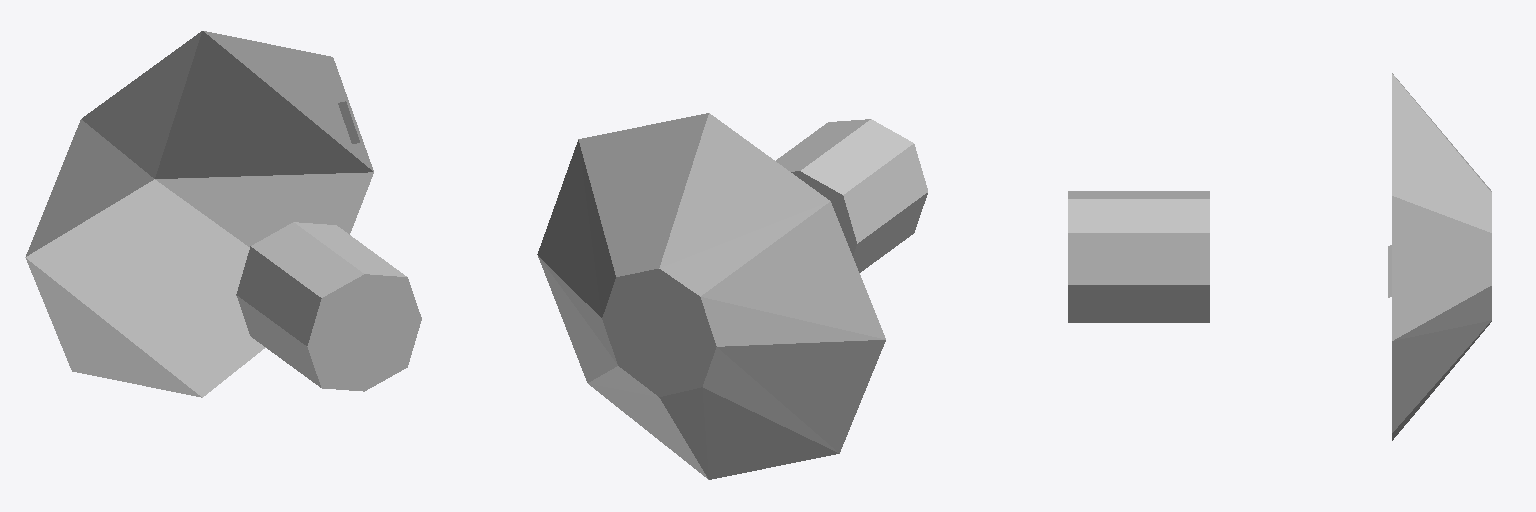
File: bomblet.obj
The picture shows the model from 3 angles: view 1: azimuth 30°, elevation 25°; view 2: azimuth 150°, elevation 25°; view 3: azimuth 270°, elevation 25°; orthographic projection.
Parts seen in each view (by area): view 1: bomblet_Cube.003; view 2: bomblet_Cube.003; view 3: bomblet_Cube.003.
Boxes of the visible parts, x1,y1,x2,y2 form: bomblet_Cube.003: [25, 31, 421, 397]; bomblet_Cube.003: [537, 113, 927, 479]; bomblet_Cube.003: [1068, 73, 1491, 440].
Size of the model in its own units: 1.72 by 1.73 by 1.8.